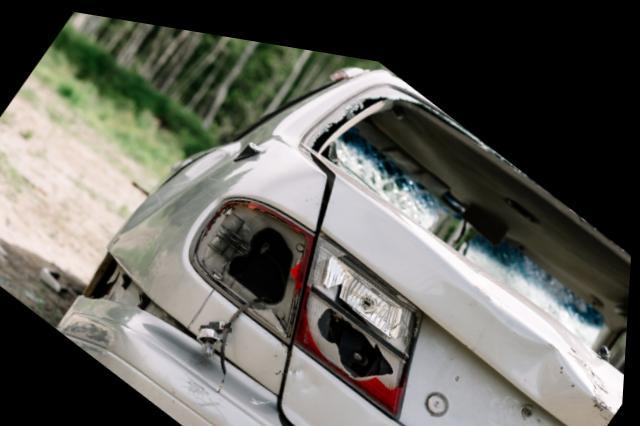dent: (449, 282, 627, 395), (284, 344, 426, 426)
dislocated part: (61, 246, 287, 426)
lamp broken: (193, 194, 424, 407)
scratch: (64, 320, 116, 351), (187, 367, 220, 402)
